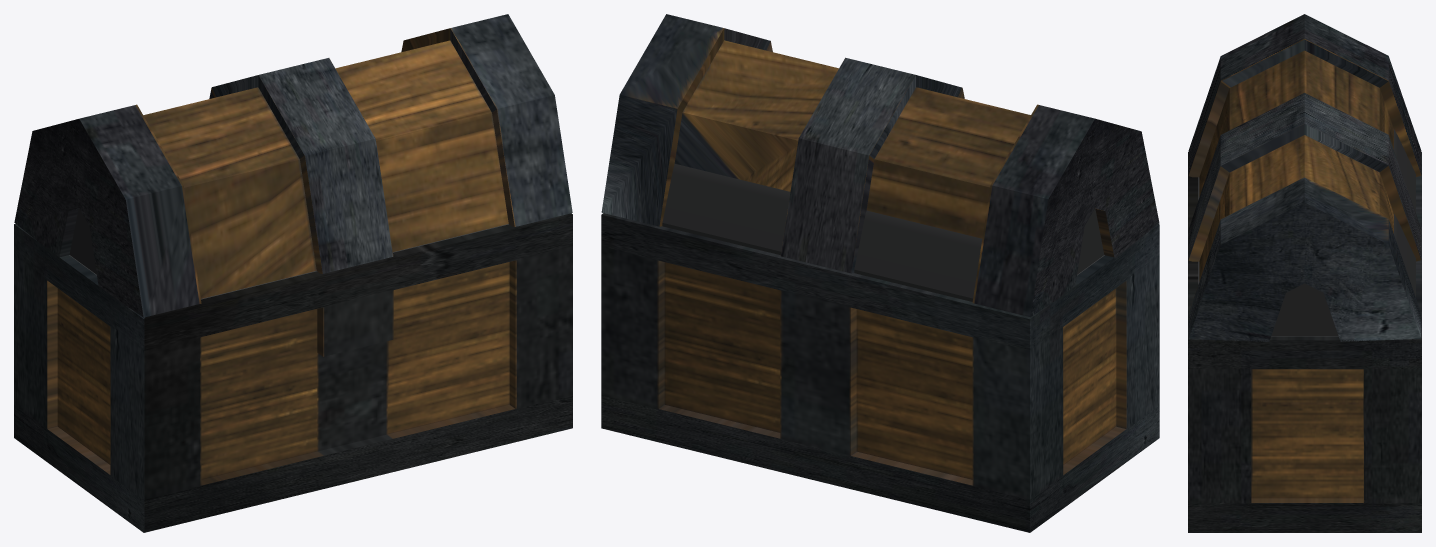
File: chestforunity.fbx
The picture shows the model from 3 angles, left to right: view 1: azimuth 30°, elevation 25°; view 2: azimuth 150°, elevation 25°; view 3: azimuth 270°, elevation 25°; orthographic projection. The views are drawn at different scales.
Parts seen in each view (by area): view 1: pCube3, top2; view 2: pCube3, top2; view 3: top2, pCube3.
Part boxes in pixels (<box>): pCube3: <box>14,213,572,532</box>; top2: <box>14,14,572,317</box>; pCube3: <box>601,213,1159,532</box>; top2: <box>601,14,1159,317</box>; top2: <box>1188,14,1421,341</box>; pCube3: <box>1188,152,1421,532</box>.
Bounding box in the file's own units: 126 × 103 × 66.
4 materials, 2 textured.
